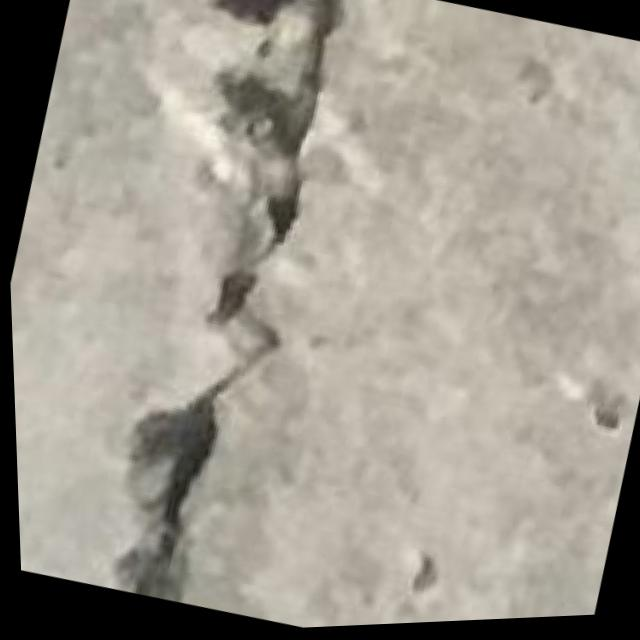Crack: (31, 0, 390, 623)
